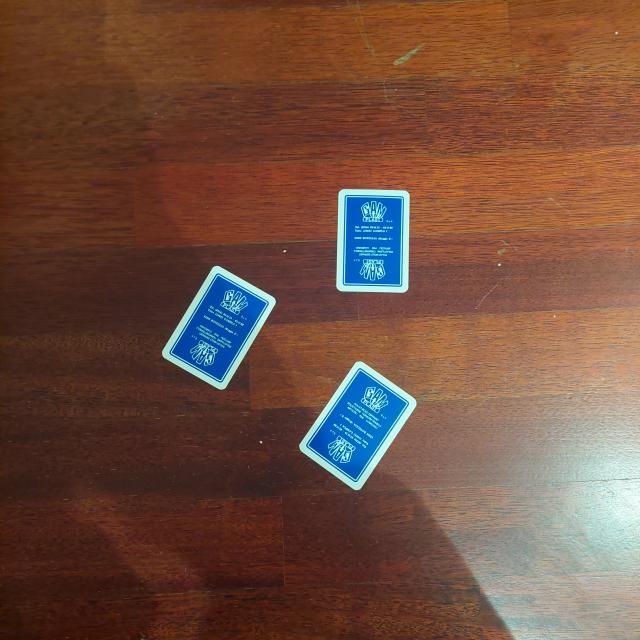card: (162, 263, 274, 396), (302, 361, 408, 480), (336, 187, 406, 296)
